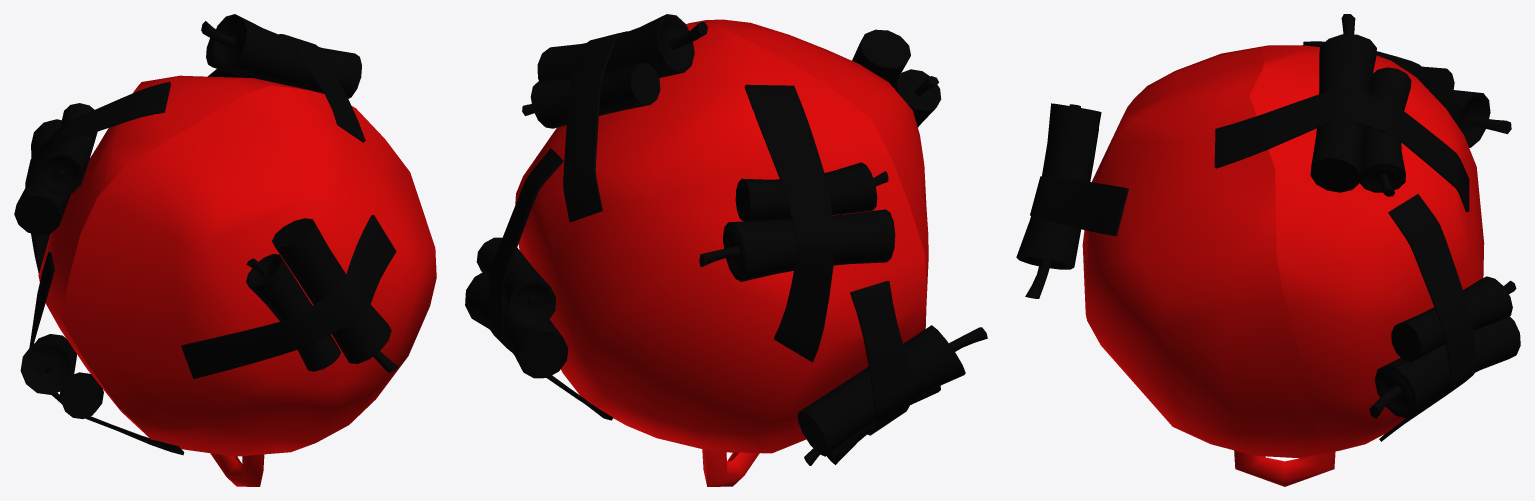
The model's file is MSH_BoomBall_Ball_01.fbx.
3 renders of one model, left to right at view 1: azimuth 30°, elevation 25°; view 2: azimuth 150°, elevation 25°; view 3: azimuth 270°, elevation 25°, orthographic. The views are drawn at different scales.
Parts seen in each view (by area): view 1: MSH_BoomBall_Ball_01; view 2: MSH_BoomBall_Ball_01; view 3: MSH_BoomBall_Ball_01.
Part boxes in pixels (bbox=[...]): MSH_BoomBall_Ball_01: bbox=[14, 14, 436, 486]; MSH_BoomBall_Ball_01: bbox=[465, 14, 987, 486]; MSH_BoomBall_Ball_01: bbox=[1016, 14, 1520, 486].
Bounding box in the file's own units: 35.39 × 36.51 × 35.3.
